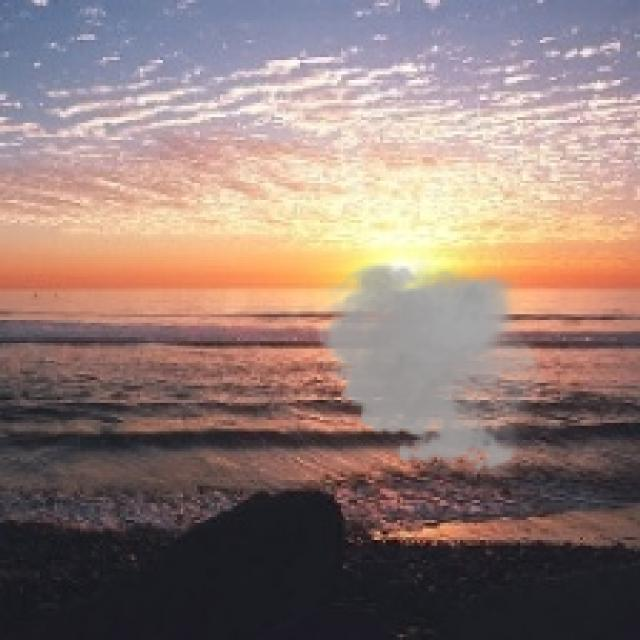smoke: (309, 254, 554, 477)
